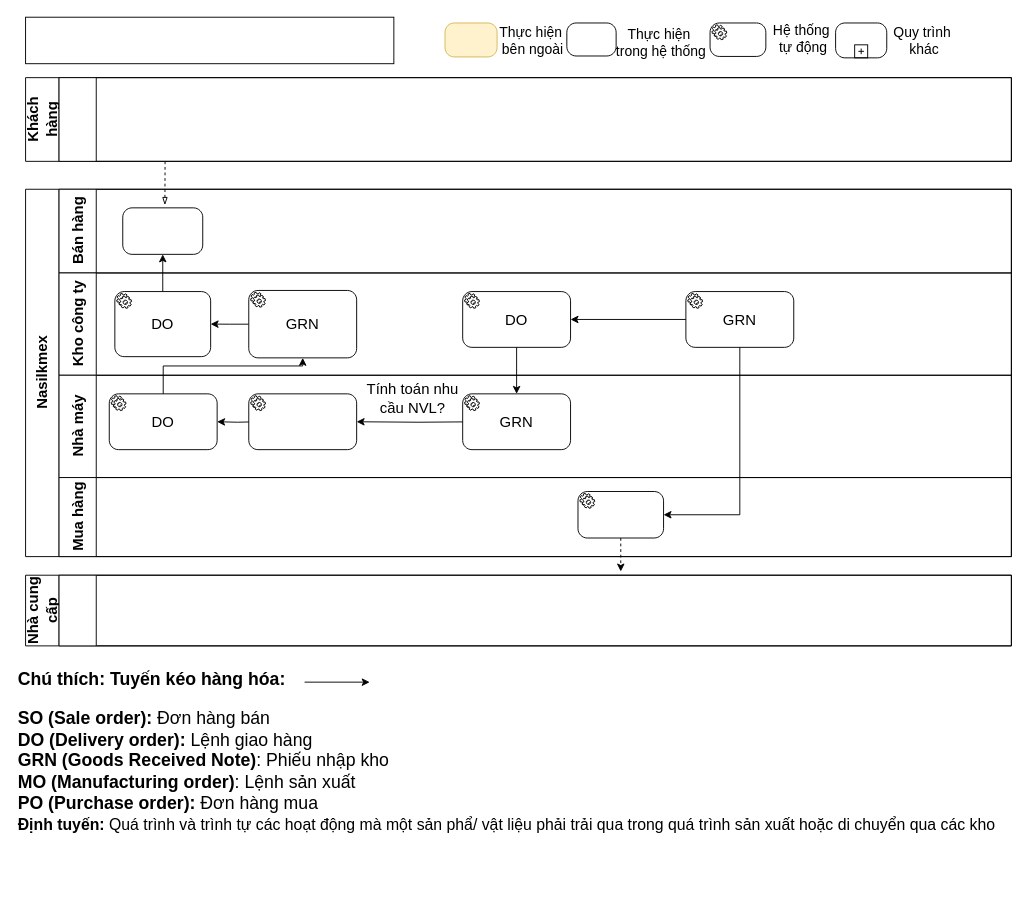
Some shapes in this 1028 by 897 pixel diagram are drawn without their labels. The centre of each missing label's shape, as x and y in pixels:
[SCM-03] Tổng quan Định tuyến cung ứng: the point at 209,40
MO: the point at 302,421
PO: the point at 620,514
SO: the point at 162,230
